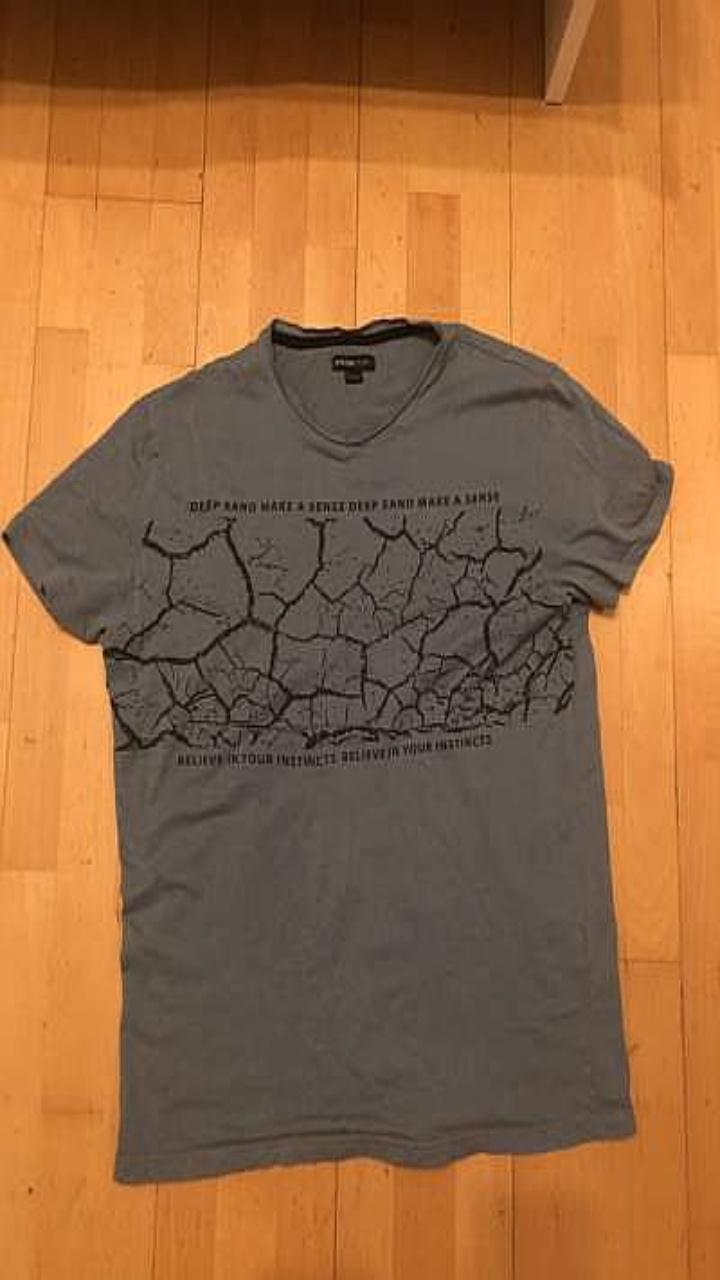T-Shirt: (3, 316, 672, 1182)
